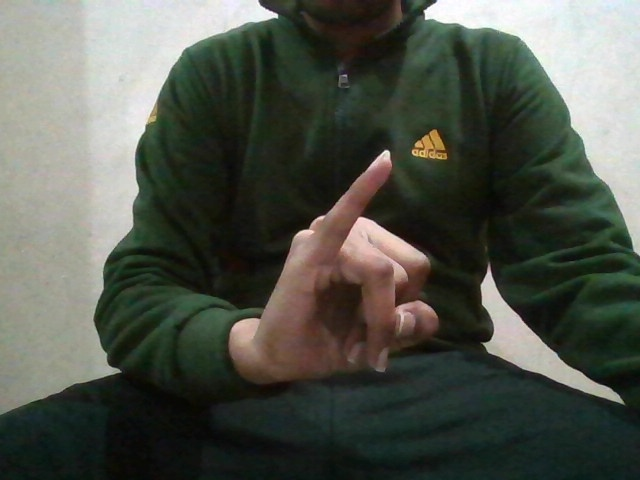I: (252, 149, 445, 380)
